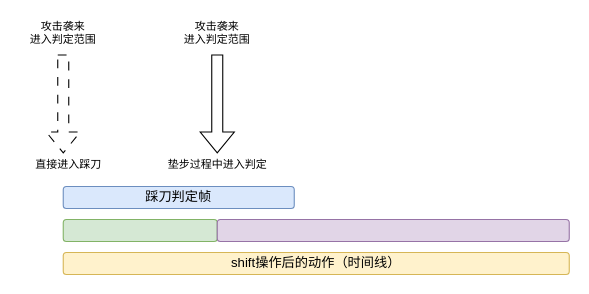
Some shapes in this 589 by 294 pixel diagram are drawn without their labels. Each missing label, with the centre of its shape:
原有垫步动作: point 139,229
踩刀动作: point 392,229
